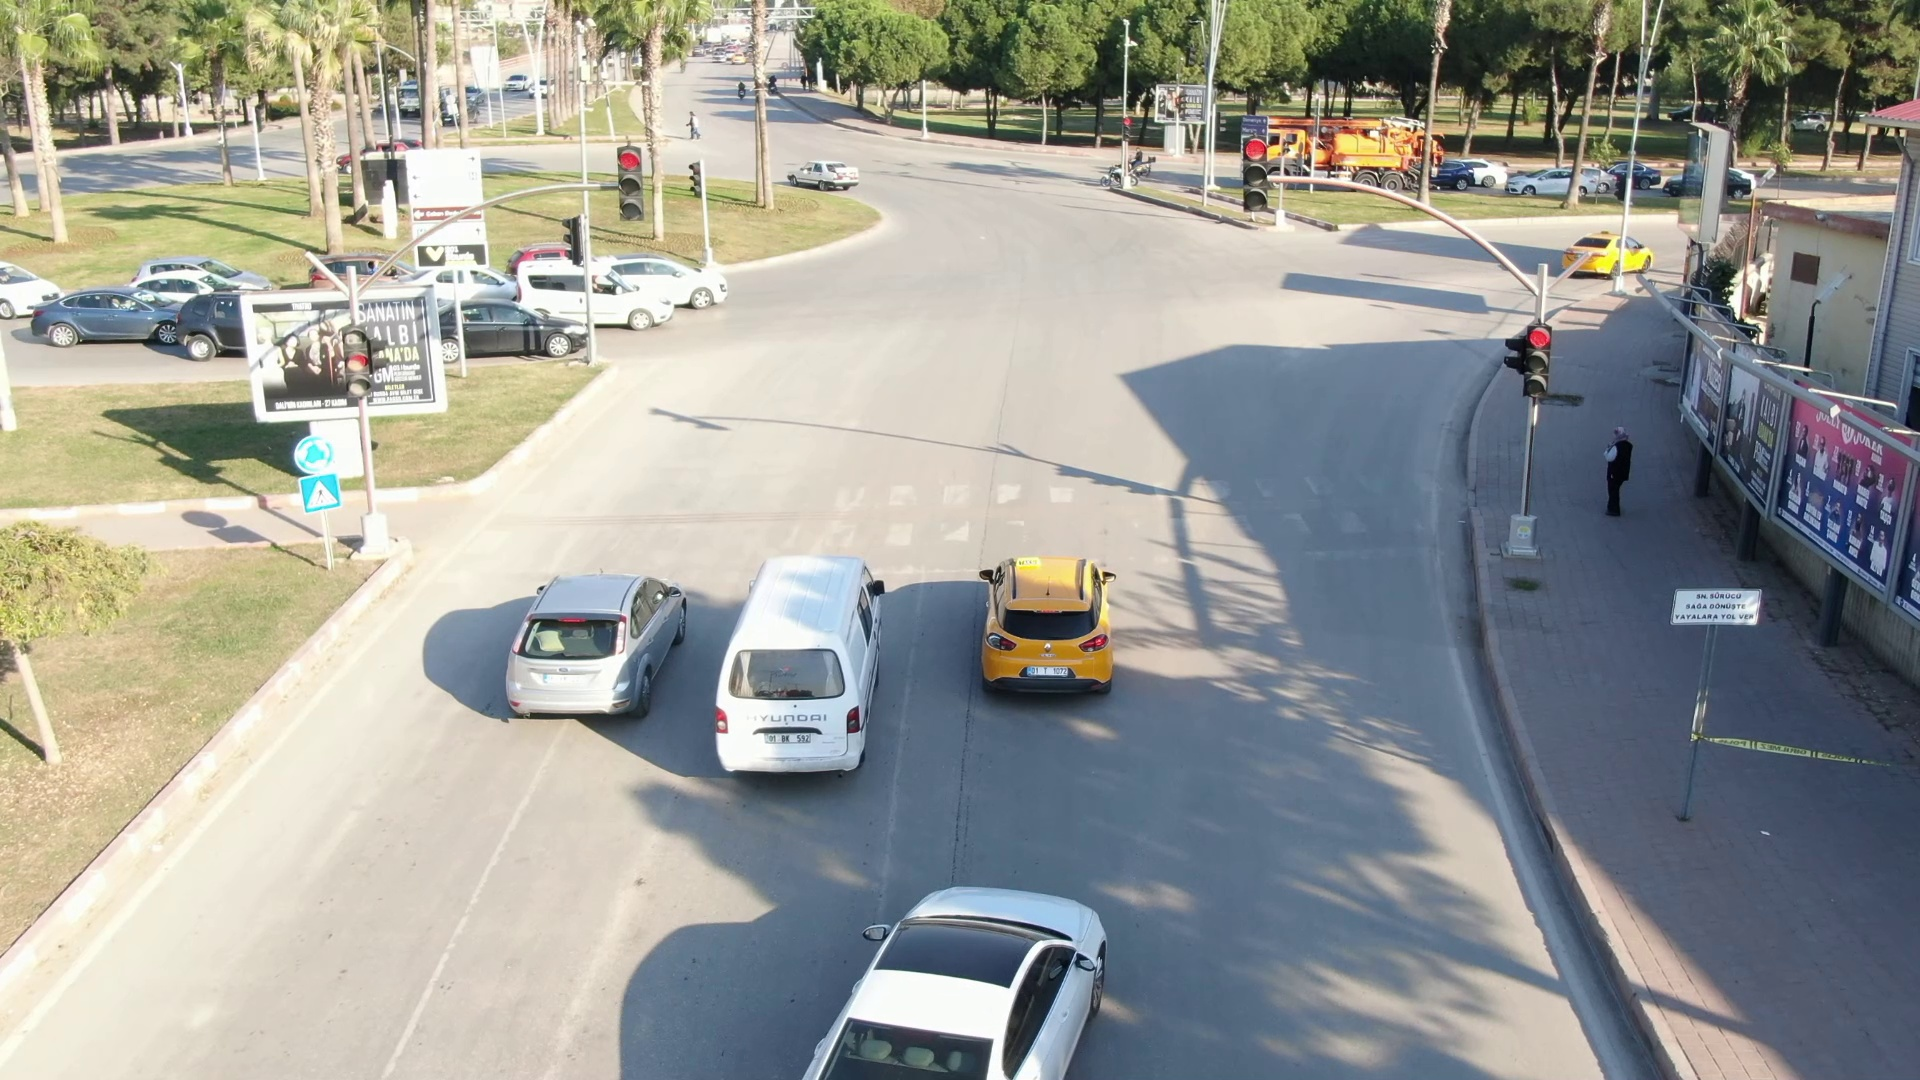car: (795, 882, 1114, 1080), (712, 537, 886, 782), (484, 576, 692, 723), (972, 545, 1133, 700), (515, 255, 668, 325), (427, 296, 588, 359), (606, 247, 735, 310), (1555, 227, 1657, 282), (784, 153, 865, 202)
person: (1586, 415, 1649, 519)
